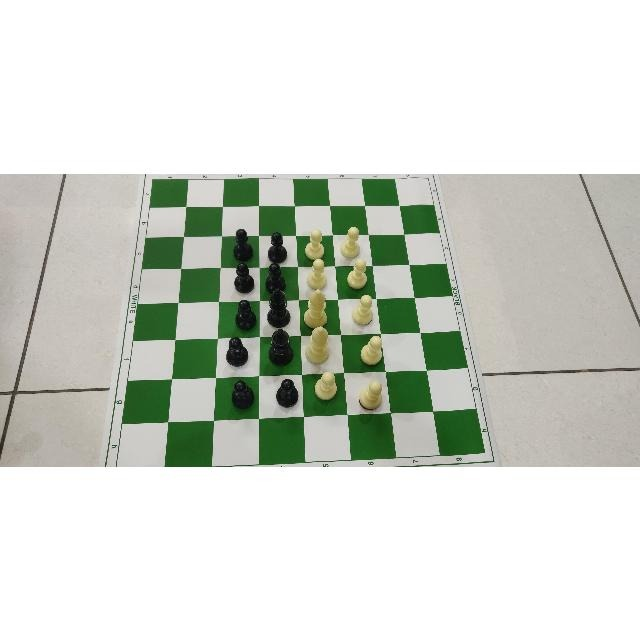black-bishop: (269, 328, 295, 366), (266, 287, 290, 326)
black-pawn: (224, 334, 250, 367), (268, 228, 290, 263), (232, 299, 258, 328), (229, 380, 255, 408), (233, 261, 255, 293), (233, 226, 254, 259), (275, 378, 299, 406), (264, 264, 287, 285)
white-bishop: (305, 325, 333, 367), (302, 288, 333, 324)
white-pawn: (302, 259, 335, 285), (357, 377, 384, 408), (343, 258, 369, 290), (339, 222, 363, 255), (360, 330, 384, 362), (300, 229, 326, 257), (315, 370, 337, 400), (353, 294, 373, 326)
